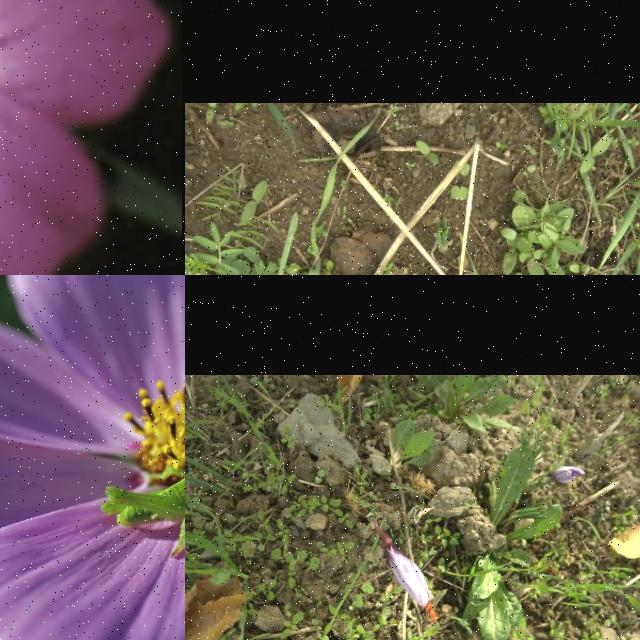flower: (388, 544, 438, 622), (549, 466, 585, 486)
